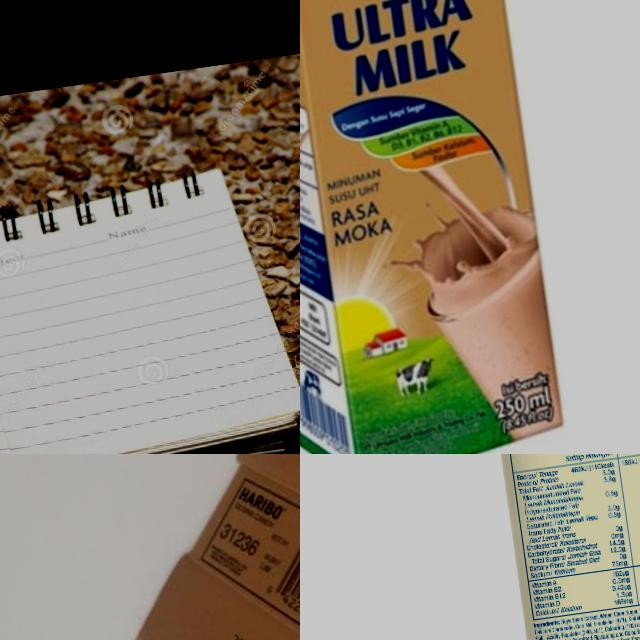caixinha: (300, 0, 571, 454), (468, 454, 640, 640)
papel: (0, 155, 300, 454)
papelão: (87, 454, 300, 640)
